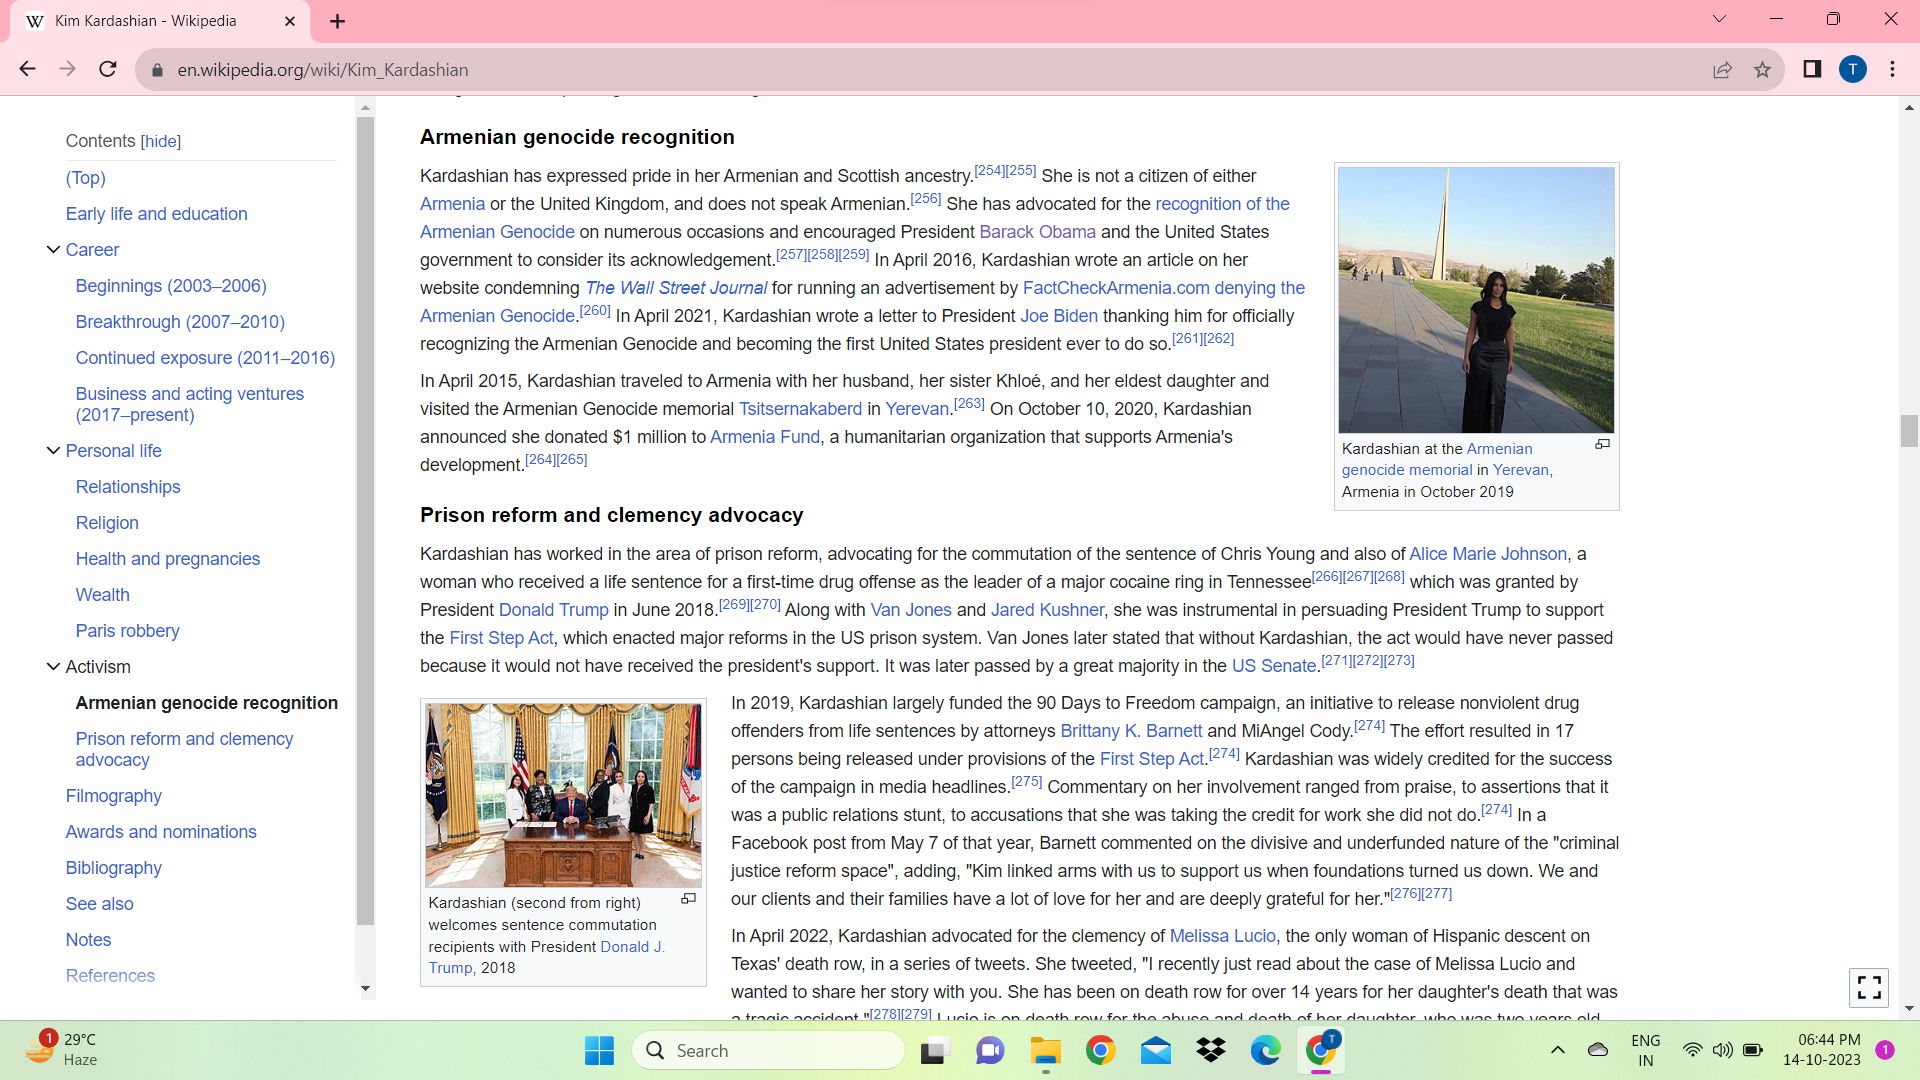Image: (1327, 149, 1629, 440), (406, 692, 709, 893)
Paragraph: (712, 686, 1662, 1022), (400, 164, 1312, 488), (411, 543, 1672, 684), (423, 893, 675, 980), (1336, 440, 1577, 506), (67, 380, 315, 427), (417, 116, 746, 152), (410, 501, 808, 530), (62, 729, 326, 773), (75, 340, 339, 376), (67, 684, 343, 715), (67, 543, 269, 578), (51, 815, 264, 845), (61, 306, 293, 332), (57, 200, 265, 227), (65, 272, 274, 293), (69, 471, 193, 501), (45, 882, 145, 919), (57, 125, 187, 152), (67, 617, 183, 645), (54, 779, 170, 804), (61, 855, 173, 880), (61, 438, 175, 462), (51, 922, 121, 953), (69, 583, 152, 607), (58, 162, 119, 194), (67, 512, 153, 533), (61, 235, 125, 261), (58, 658, 142, 678)
